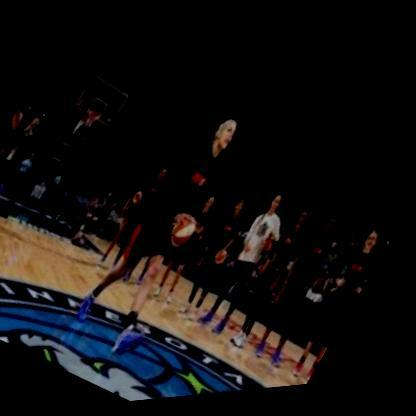basketball: (162, 213, 206, 260)
